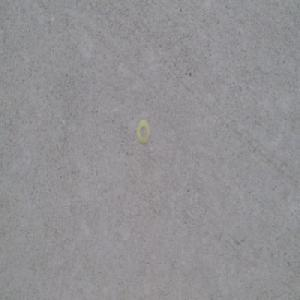Washer: (136, 119, 150, 146)
